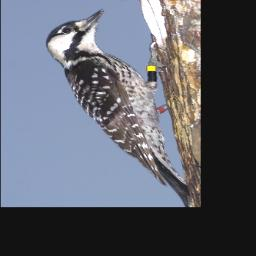Woodpecker: (44, 8, 192, 206)
